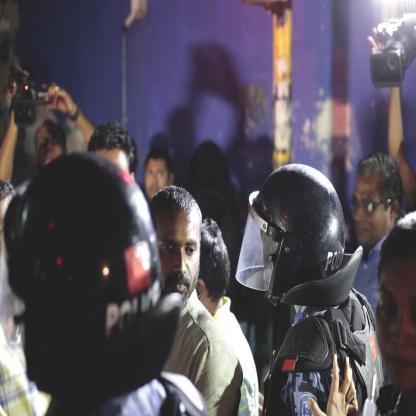Helmet: (0, 151, 160, 383), (234, 173, 368, 318)
